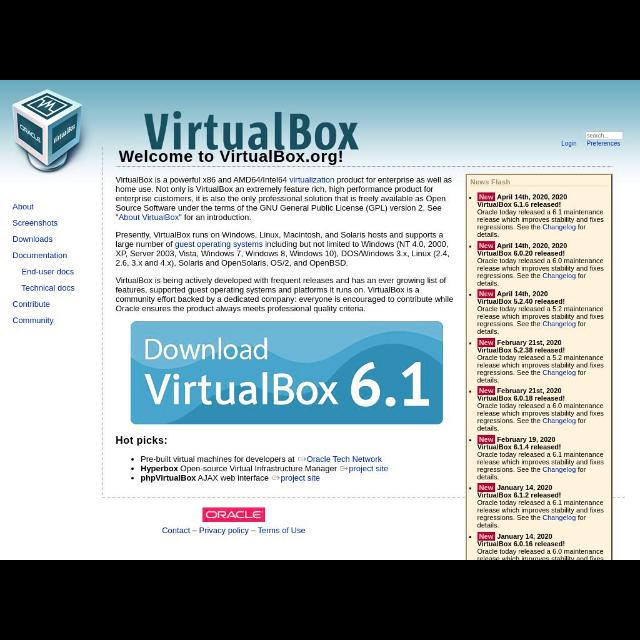backgroundimage: (3, 83, 637, 559)
button: (132, 322, 442, 424)
icon: (298, 456, 306, 462), (340, 466, 348, 472), (272, 476, 280, 480)
image: (11, 90, 84, 170), (204, 508, 264, 522)
input: (587, 132, 623, 140)
text: (114, 174, 452, 222), (115, 276, 453, 318), (115, 231, 451, 267), (145, 110, 361, 152), (476, 386, 604, 432), (478, 242, 604, 286), (477, 290, 603, 334), (478, 436, 604, 480), (477, 341, 605, 384), (478, 483, 604, 525), (477, 532, 603, 560), (478, 210, 604, 237), (118, 152, 344, 164), (131, 465, 337, 473), (478, 192, 568, 208), (134, 474, 268, 484), (131, 456, 295, 464), (310, 456, 382, 464), (115, 436, 167, 446), (12, 252, 68, 260), (22, 268, 74, 276), (200, 527, 250, 535), (13, 317, 53, 325), (22, 285, 74, 291), (14, 300, 51, 308), (258, 527, 306, 533), (14, 220, 56, 226), (13, 237, 52, 243), (351, 466, 389, 472), (282, 476, 320, 482), (586, 141, 620, 147), (162, 528, 190, 534), (13, 203, 34, 210), (588, 134, 608, 138), (562, 142, 576, 146)
